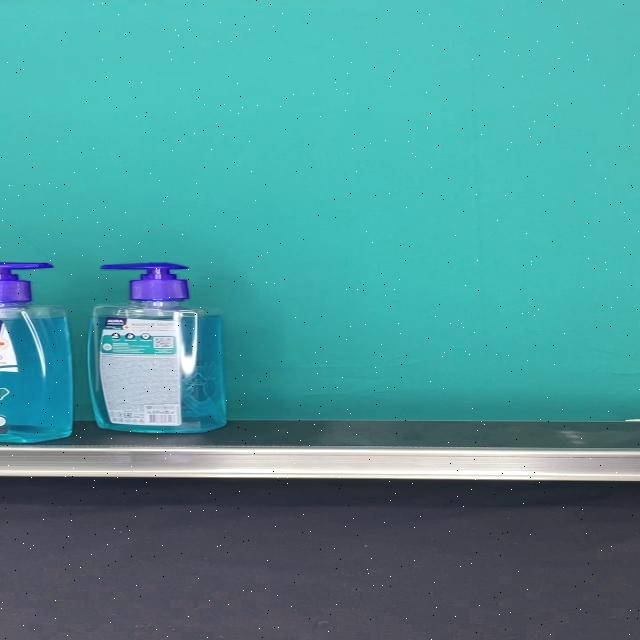Bottle: (87, 262, 227, 433)
Cap: (100, 263, 190, 303)
